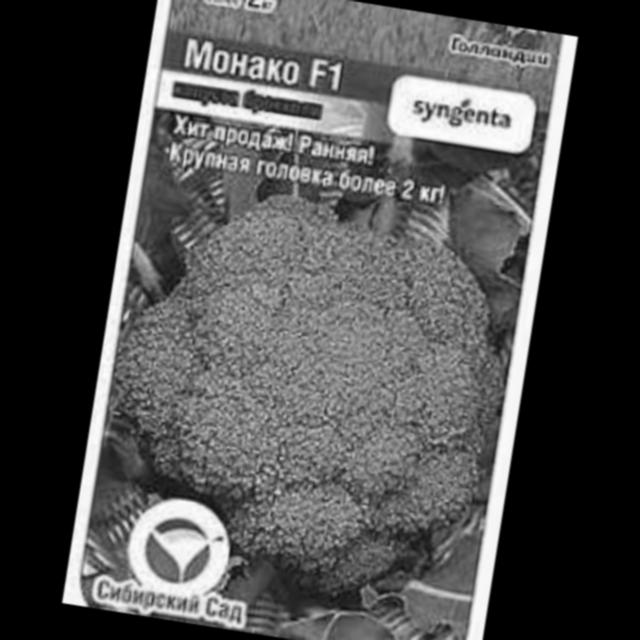bong cai xanh: (81, 170, 532, 626)
